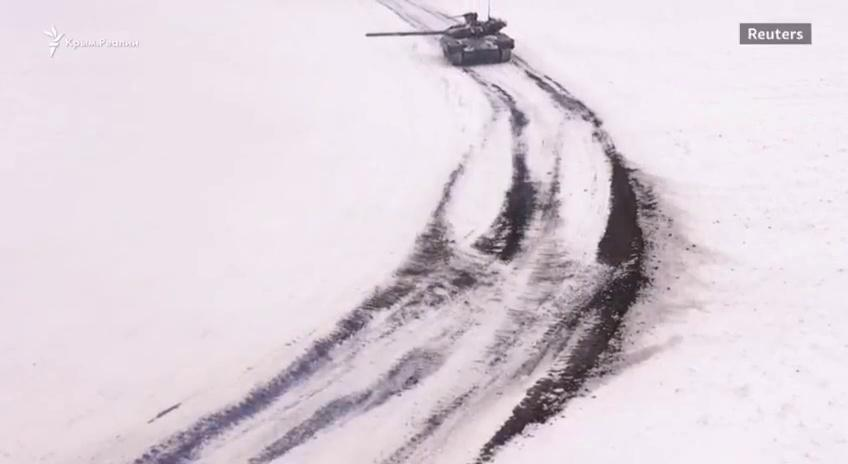tank: (365, 12, 515, 65)
